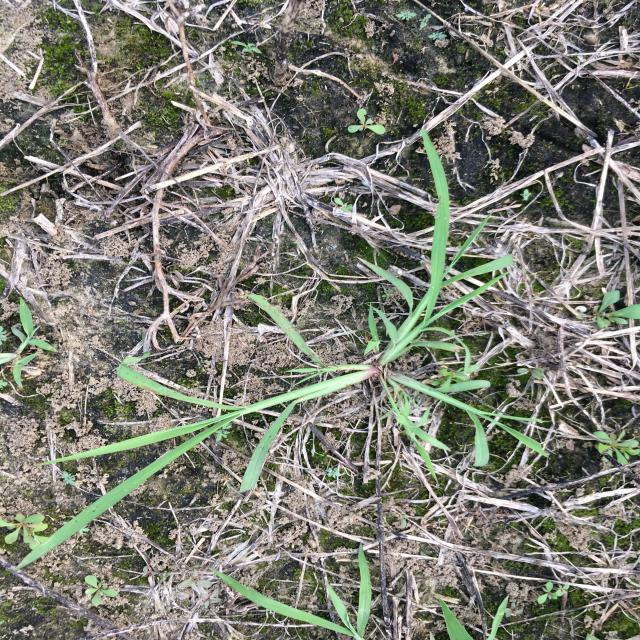Carpetweed: (1, 513, 55, 556), (586, 286, 638, 328), (593, 427, 639, 468), (82, 574, 118, 609)
Goosegrass: (12, 125, 551, 574)
